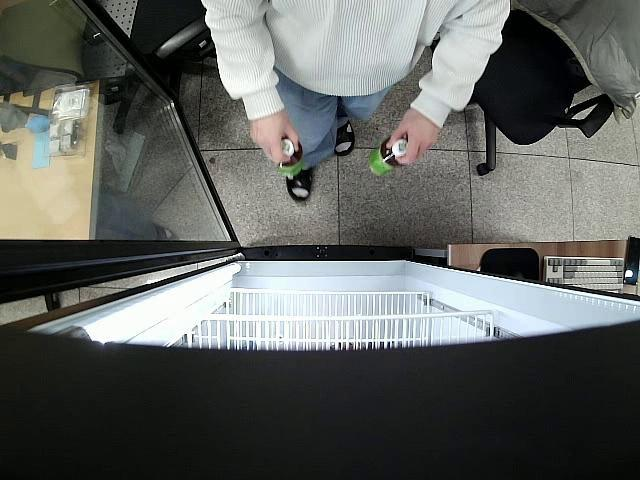19_17cha: (365, 138, 408, 179), (278, 138, 304, 180)
